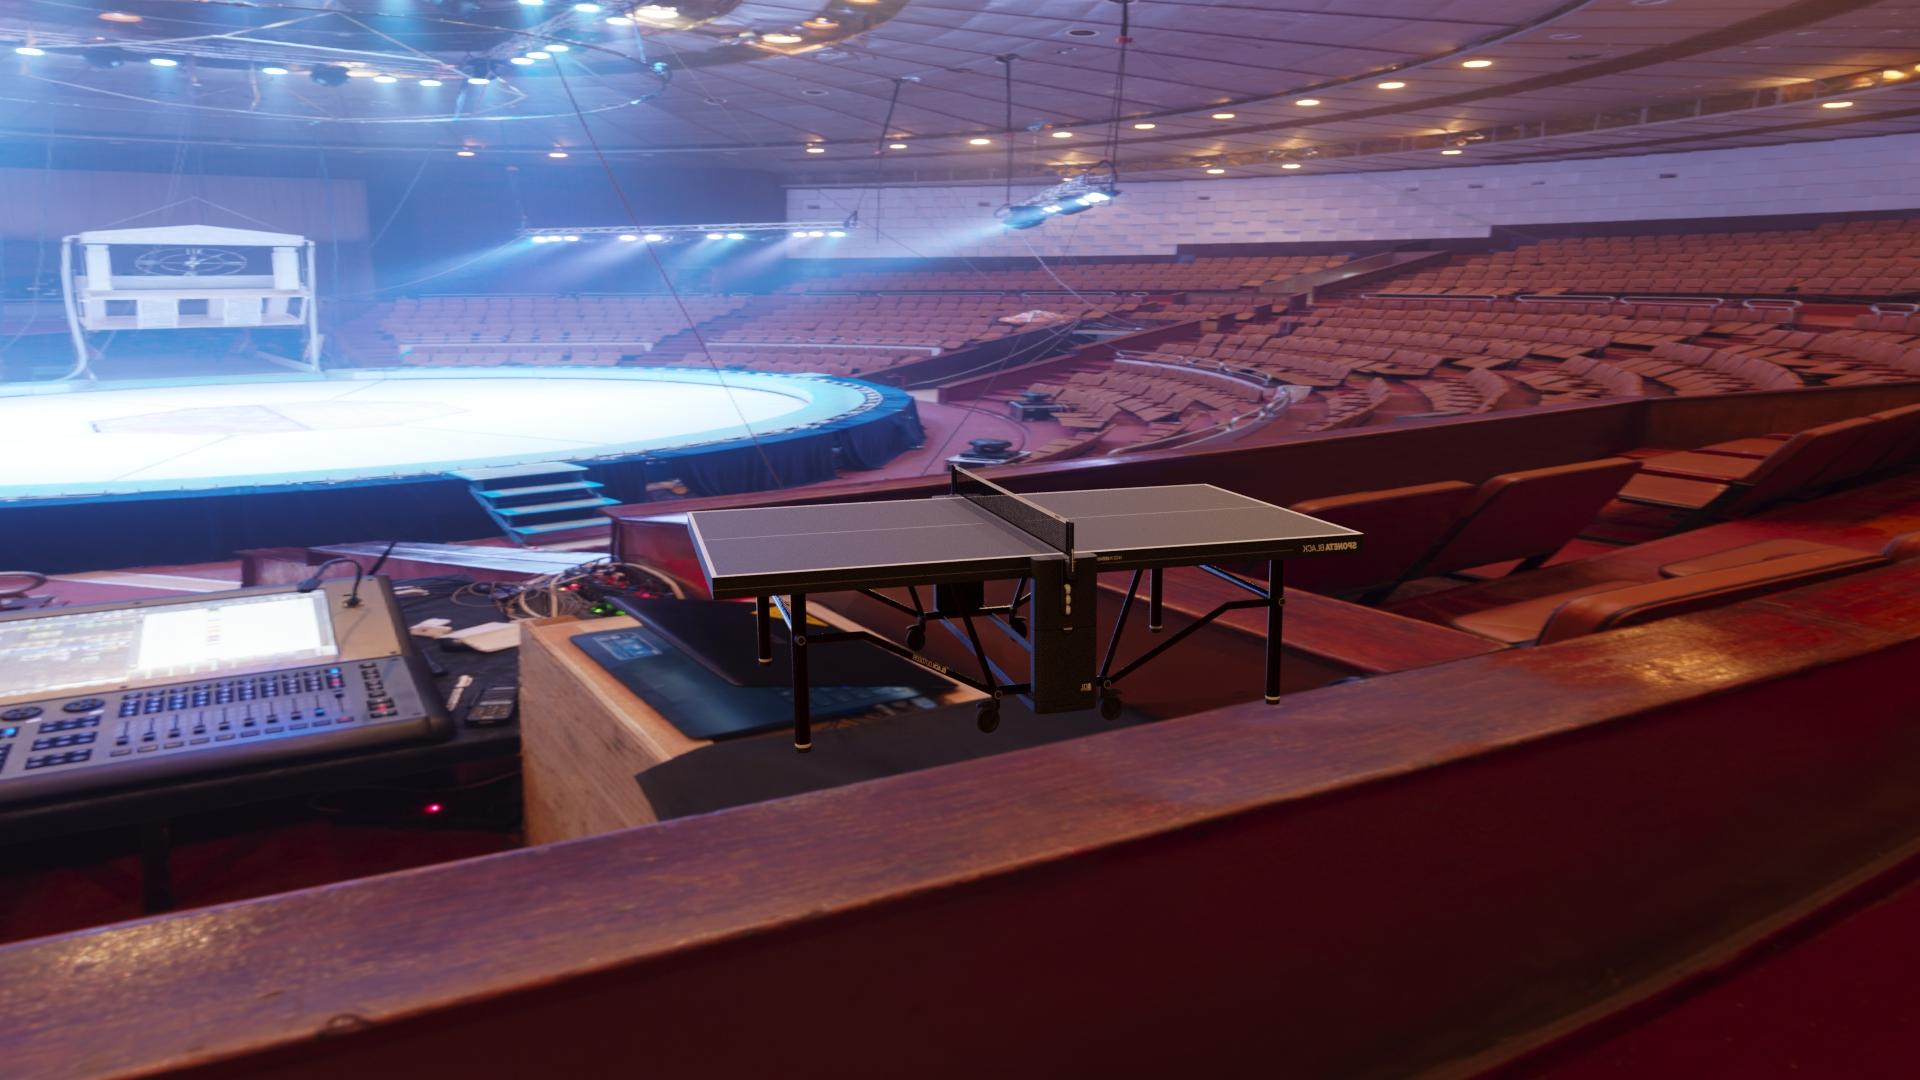table: (691, 485, 1357, 576)
